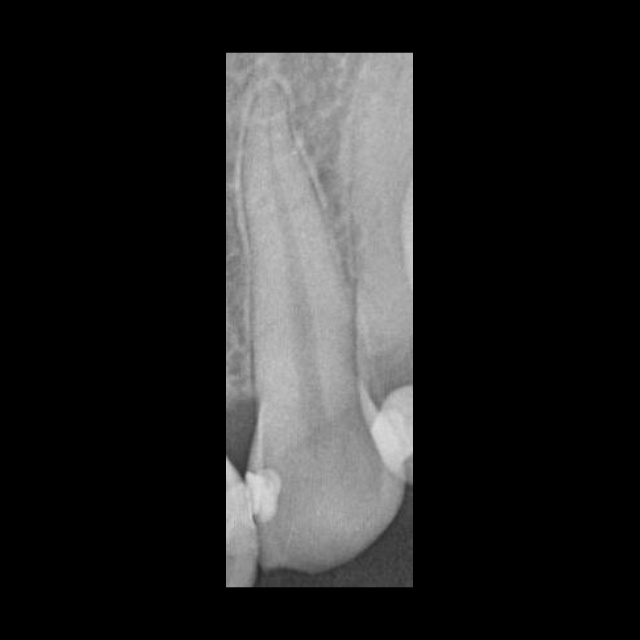tooth: (239, 80, 397, 577)
